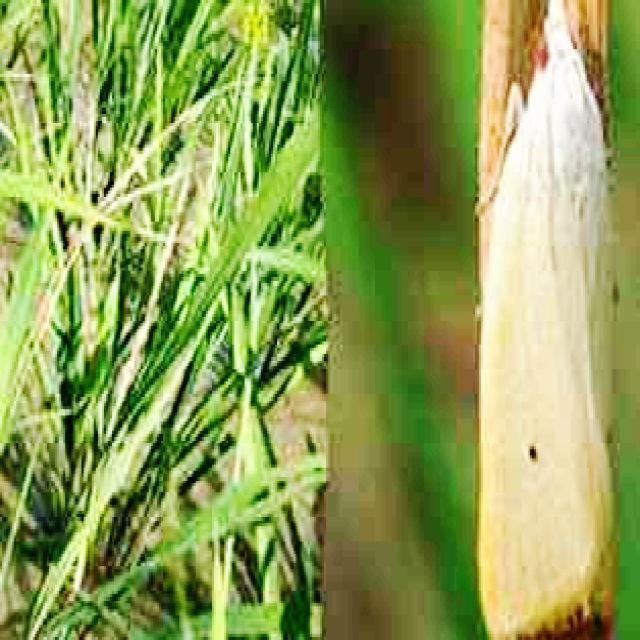stem-borer: (476, 0, 620, 640)
